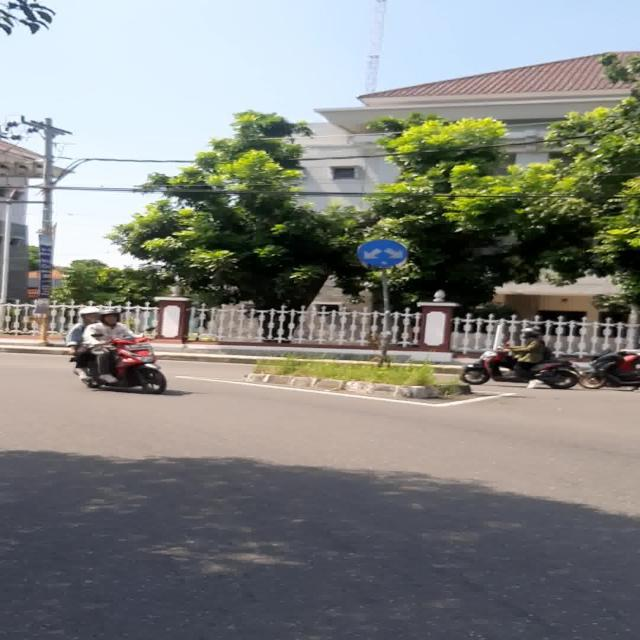Pilih Salah Satu Jalur: (358, 240, 406, 267)
